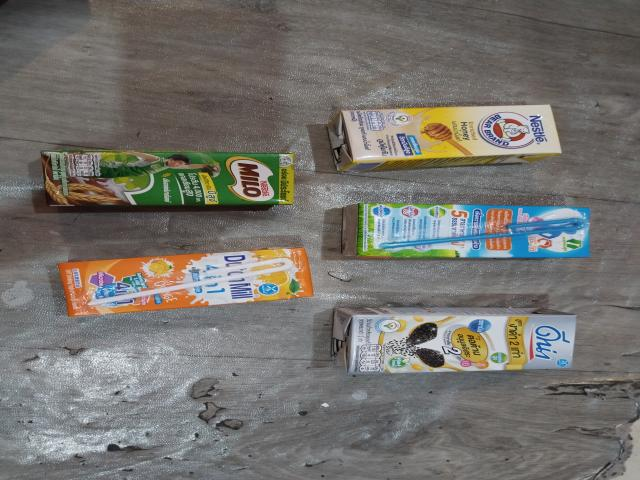drink_box: (325, 299, 582, 376), (32, 145, 309, 215), (314, 101, 575, 172), (346, 199, 594, 267), (55, 251, 318, 309)
